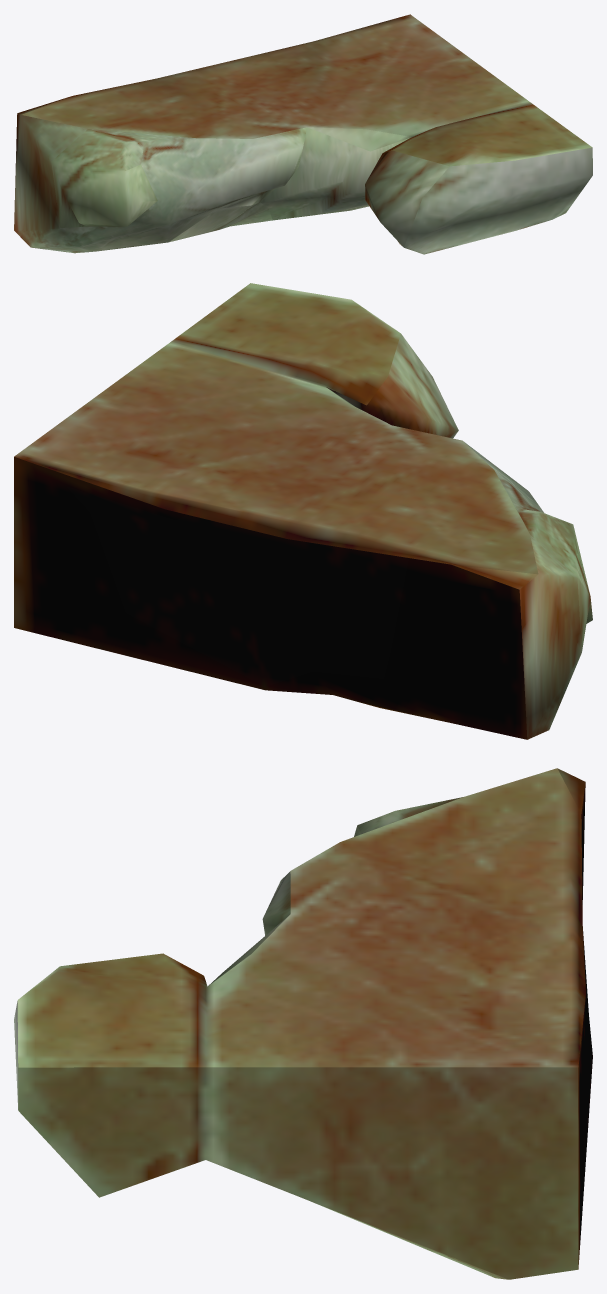
File: Ruins_Trim_Base_DMG_2M_A.fbx
3 renders of one model, top to bottom at view 1: azimuth 30°, elevation 25°; view 2: azimuth 150°, elevation 25°; view 3: azimuth 270°, elevation 25°, orthographic. The views are drawn at different scales.
Visible parts, largest first — view 1: Ruins_Trim_Base_DMG_2M_A; view 2: Ruins_Trim_Base_DMG_2M_A; view 3: Ruins_Trim_Base_DMG_2M_A.
Boxes of the visible parts, x1,y1,x2,y2 form: Ruins_Trim_Base_DMG_2M_A: (14,14,592,254); Ruins_Trim_Base_DMG_2M_A: (14,283,592,739); Ruins_Trim_Base_DMG_2M_A: (14,768,592,1279).
Bounding box in the file's own units: 250 × 91.79 × 206.
